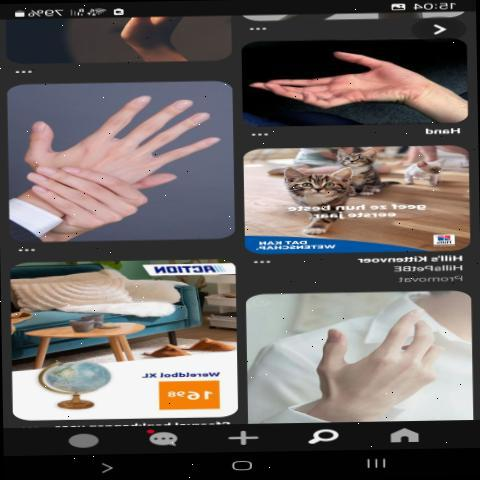Hands: (22, 85, 226, 203), (248, 40, 456, 127)
